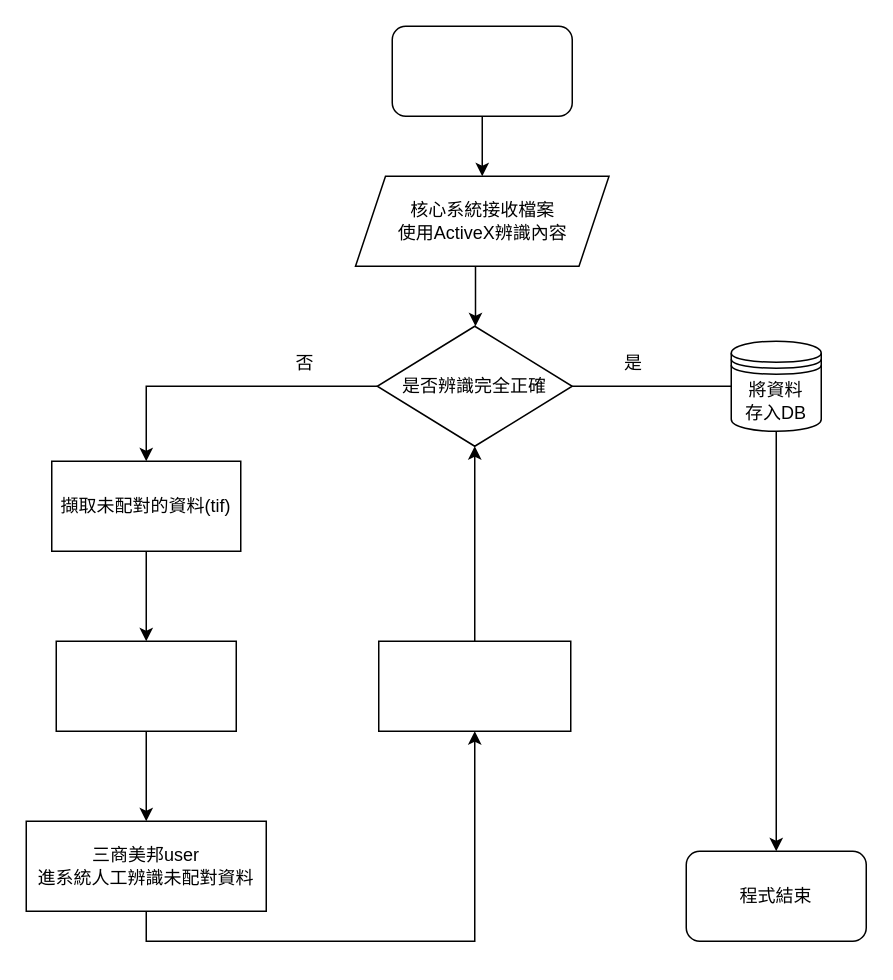
The diagram is 893 pixels wide and 980 high, and some of its shapes have lost their labels. The centre of each missing label's shape, as x and y in pixels:
"RPA重新辨識資料， 並將未配對的資料修改收件編號" goes at pixel 474 685.
"三商美邦上傳檔案" goes at pixel 481 70.
"未配對的資料回傳notify，通知三商美邦" goes at pixel 145 685.
